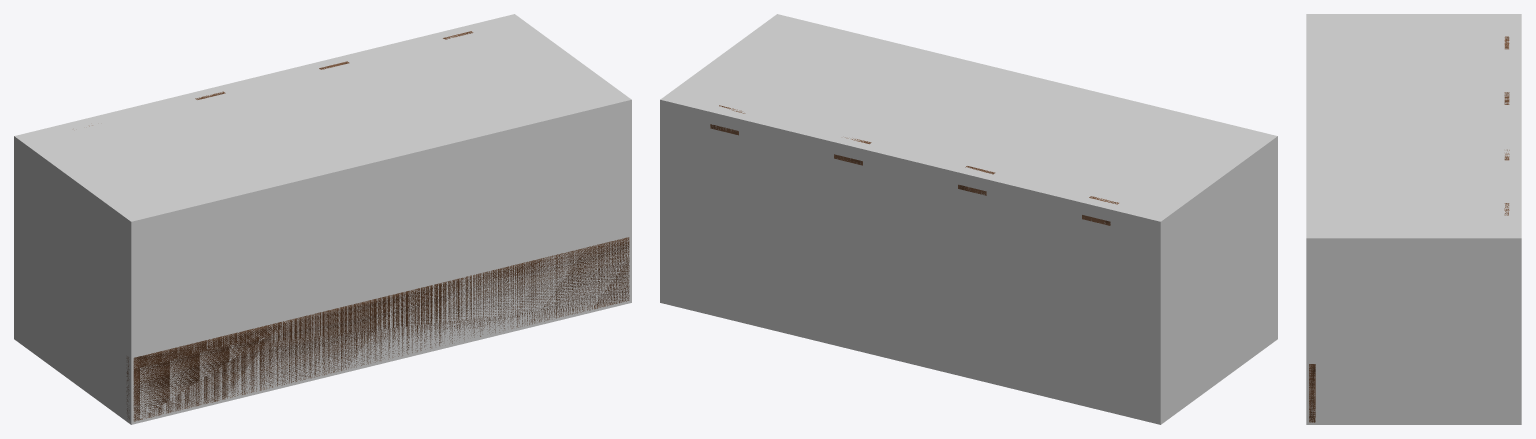
File: house_roof_eave.glb
3 renders of one model, left to right at view 1: azimuth 30°, elevation 25°; view 2: azimuth 150°, elevation 25°; view 3: azimuth 270°, elevation 25°, orthographic. The views are drawn at different scales.
Parts seen in each view (by area): view 1: COL_house_roof_eave_static_00, house_roof_eave_static; view 2: COL_house_roof_eave_static_00, house_roof_eave_static; view 3: COL_house_roof_eave_static_00, house_roof_eave_static.
Part boxes in pixels (bbox=[...]): COL_house_roof_eave_static_00: bbox=[14, 14, 631, 424]; house_roof_eave_static: bbox=[89, 31, 629, 421]; COL_house_roof_eave_static_00: bbox=[660, 14, 1277, 424]; house_roof_eave_static: bbox=[710, 105, 1118, 225]; COL_house_roof_eave_static_00: bbox=[1306, 14, 1521, 424]; house_roof_eave_static: bbox=[1309, 36, 1509, 422].
Size of the model in its own units: 2.02 by 0.7833 by 0.8183.
1 material, 1 textured.
